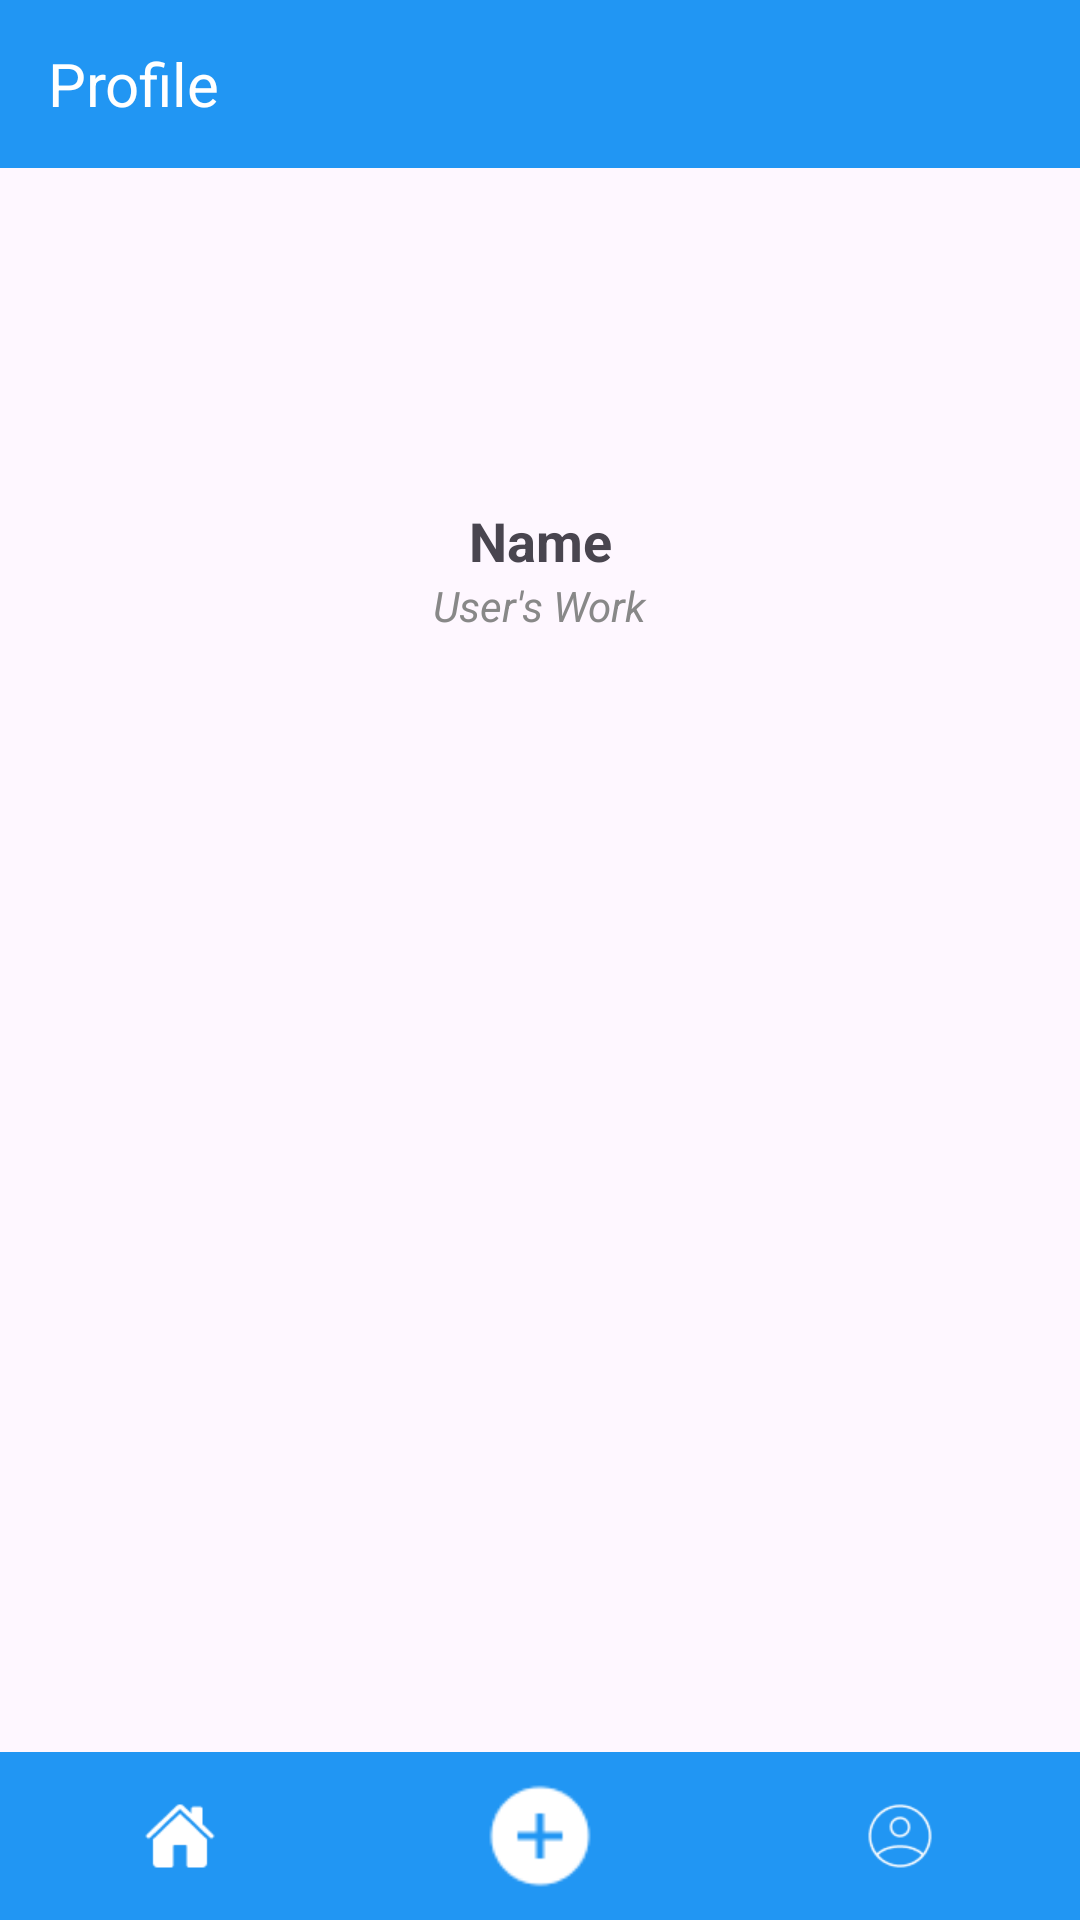

Icons on this 1080×1920 Android screen, each with the point to tap as (x,y):
add: (540,1836)
home: (180,1836)
profile: (900,1836)
